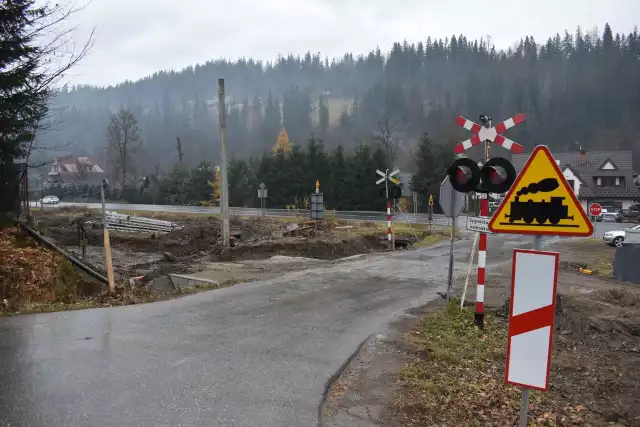a10: (497, 175, 583, 229)
